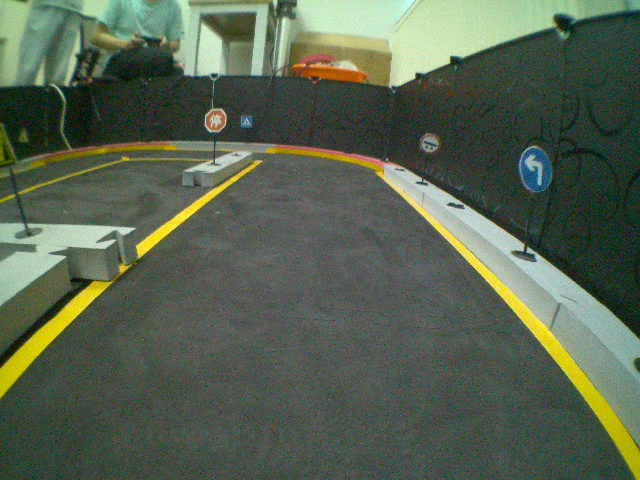Check: (419, 132, 440, 155)
Stop: (204, 106, 227, 134)
crossing: (241, 115, 253, 128)
fast: (16, 127, 30, 145)
turn: (518, 145, 553, 193)
